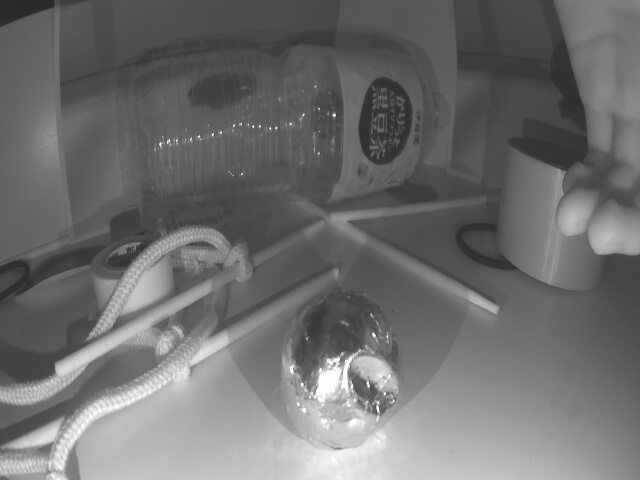Live: (276, 281, 404, 447)
